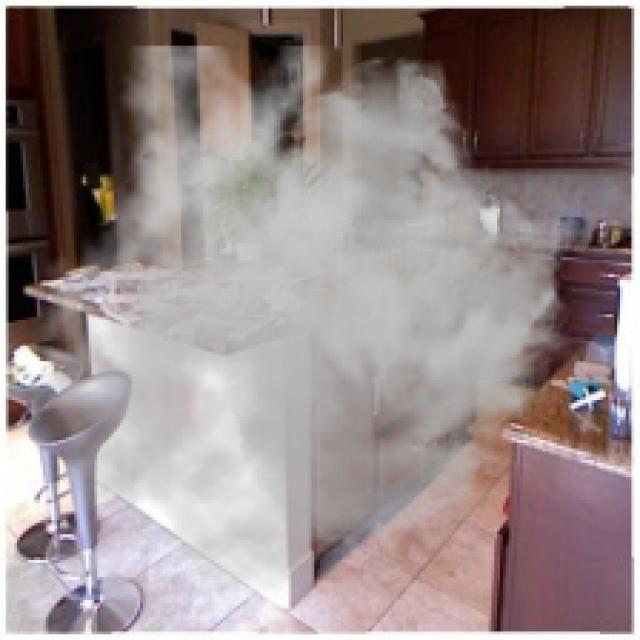Smoke: (26, 46, 583, 594)
